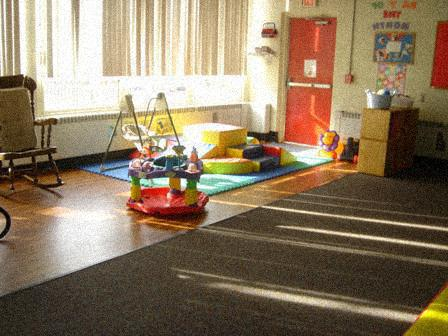Otro Obstaculo: (119, 147, 206, 222), (171, 119, 284, 173), (313, 133, 353, 161)
Puerta: (283, 24, 334, 146)
